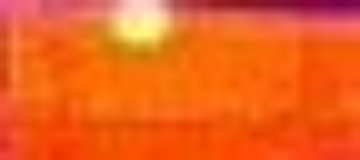Hotspot: (110, 1, 177, 47)
